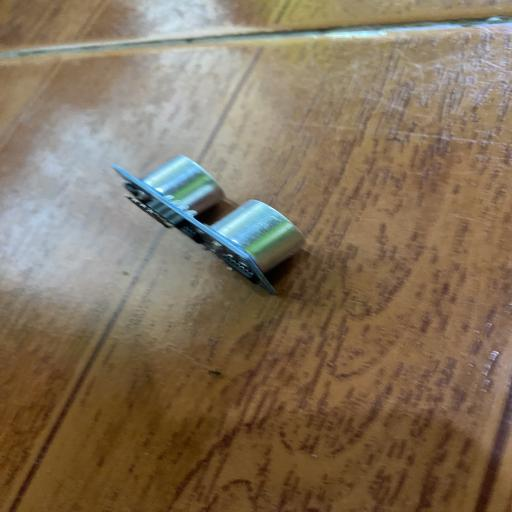Ultrasonic Sensor: (109, 153, 308, 297)
